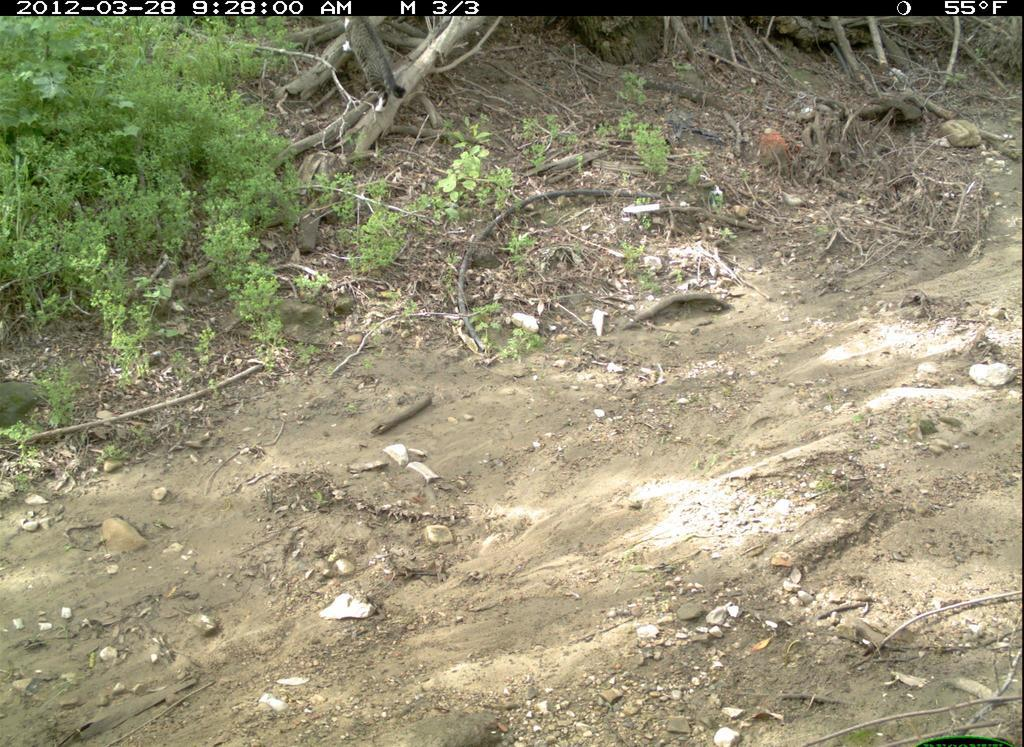cat: (337, 18, 414, 119)
